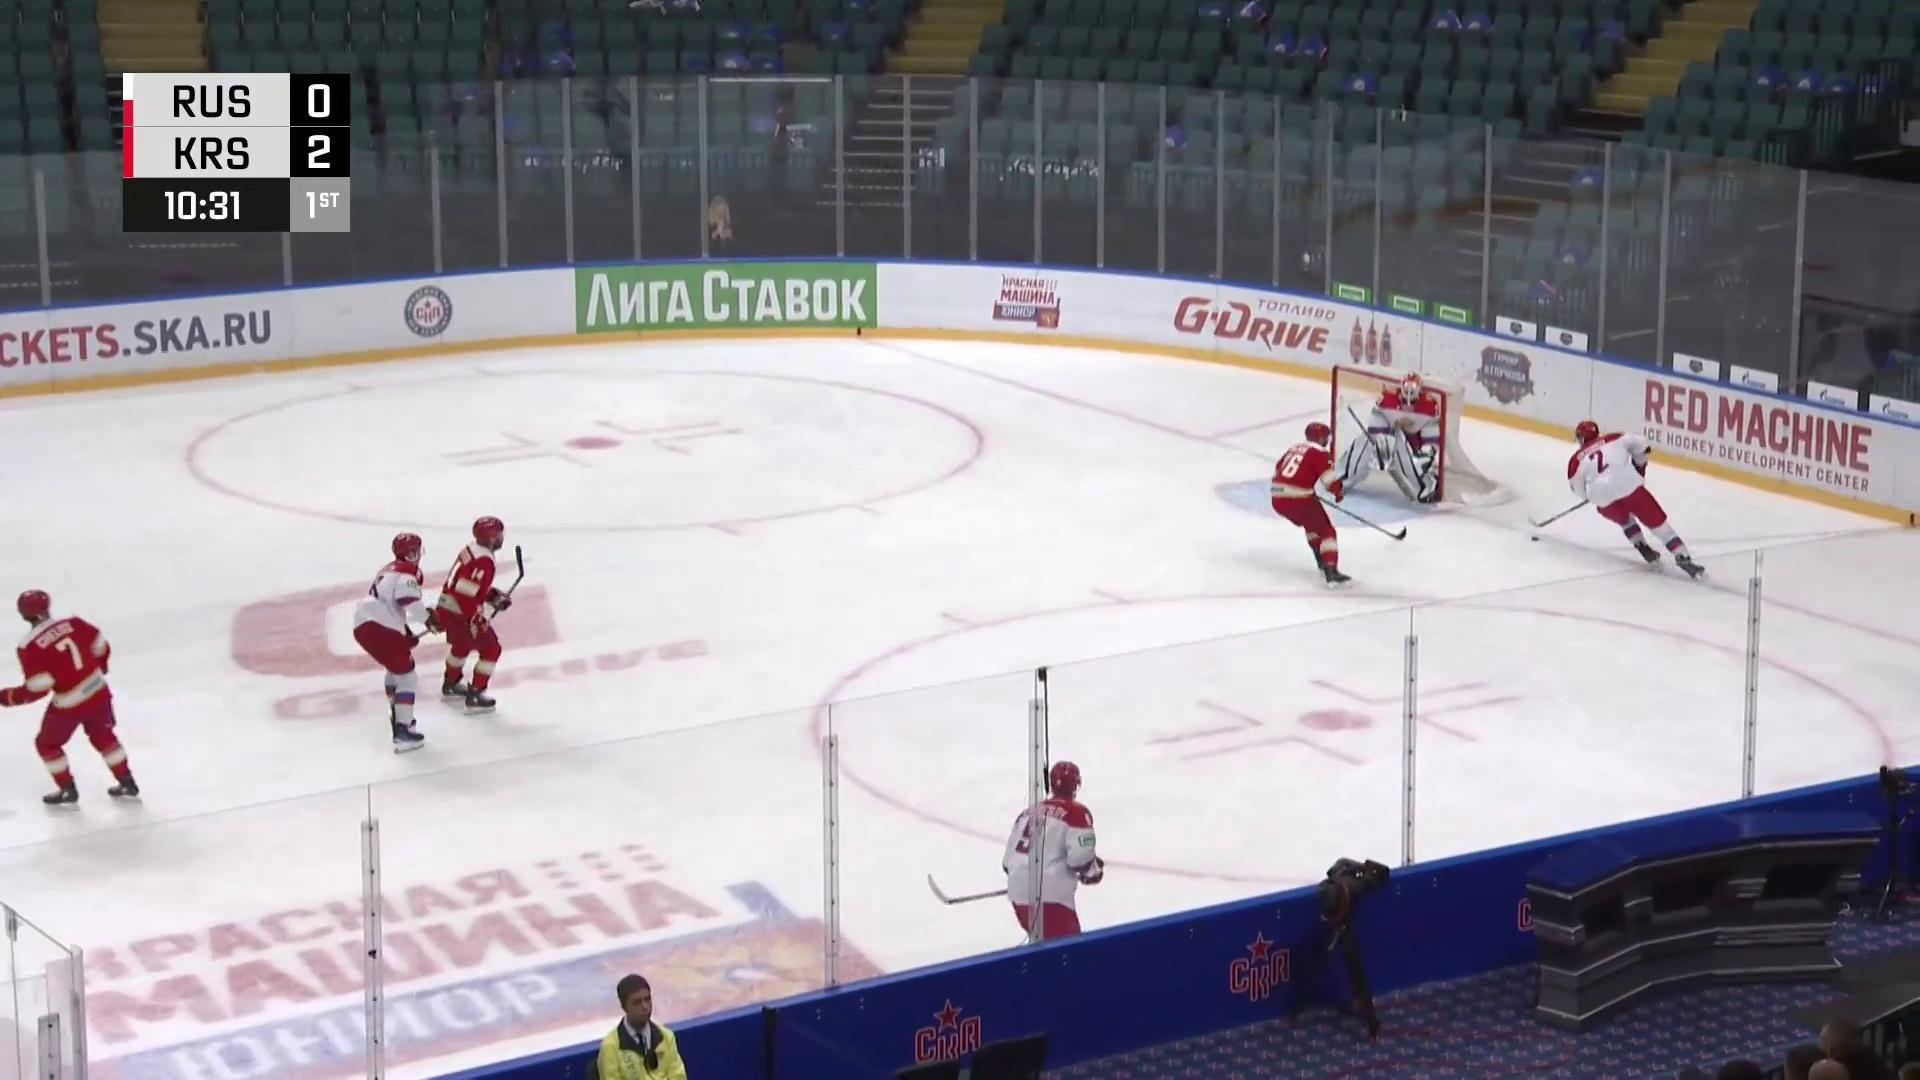ball: (1527, 534, 1540, 543)
